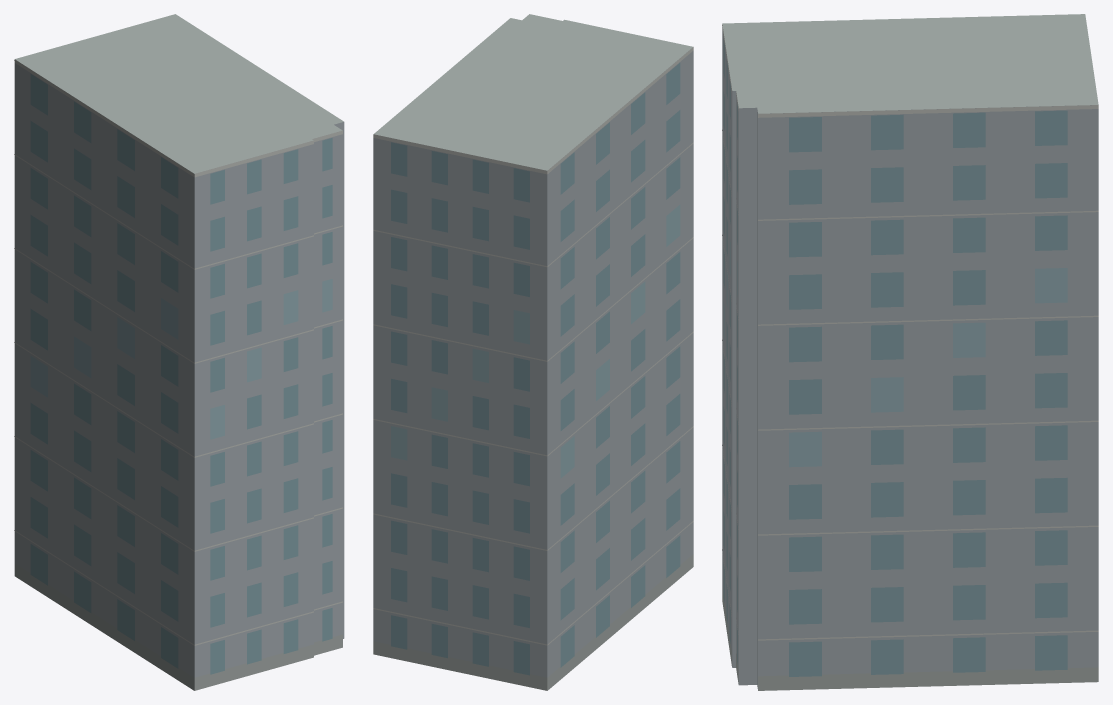
File: survey-upis-33030914.glb
The picture shows the model from 3 angles, left to right: view 1: azimuth 30°, elevation 25°; view 2: azimuth 150°, elevation 25°; view 3: azimuth 270°, elevation 25°; orthographic projection. The views are drawn at different scales.
Visible parts, largest first — view 1: survey-upis-33030914.tmp; view 2: survey-upis-33030914.tmp; view 3: survey-upis-33030914.tmp.
Part boxes in pixels (<box>): survey-upis-33030914.tmp: <box>14,14,344,690</box>; survey-upis-33030914.tmp: <box>373,14,693,690</box>; survey-upis-33030914.tmp: <box>722,14,1098,690</box>.
Bounding box in the file's own units: 12.85 × 34.6 × 20.47.
